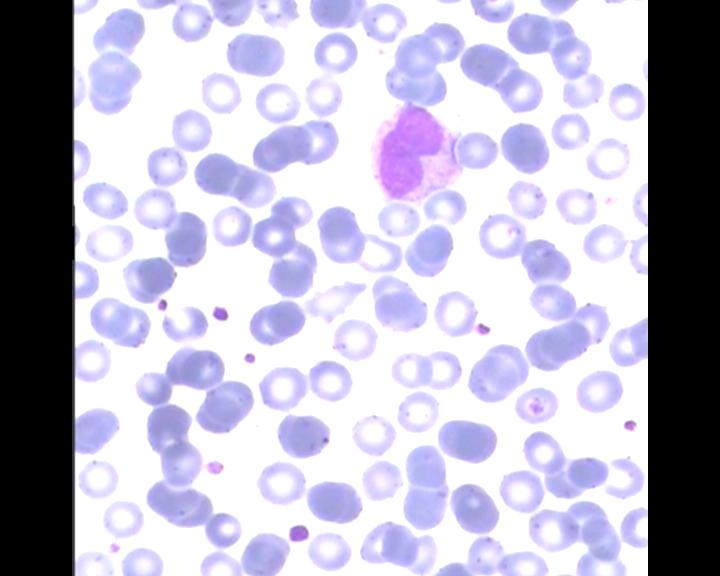mono: (362, 93, 469, 200)
